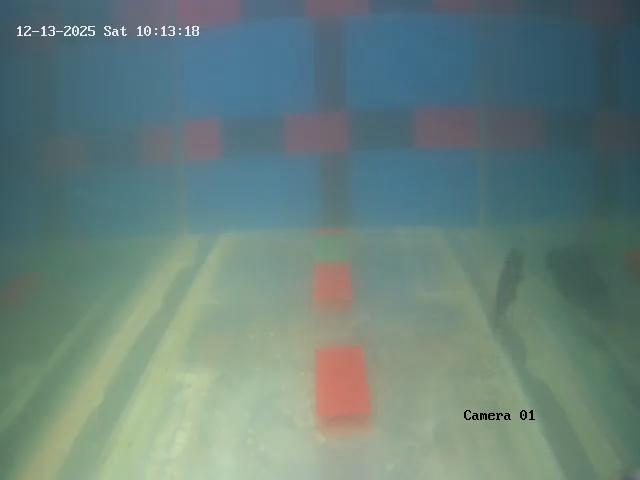fish: (489, 246, 525, 351)
